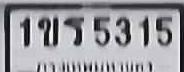1: (19, 16, 29, 46), (139, 15, 148, 46)
3: (114, 16, 130, 46)
5: (155, 15, 172, 46), (93, 16, 109, 46)
A02: (37, 16, 58, 46)
A35: (63, 16, 83, 45)
